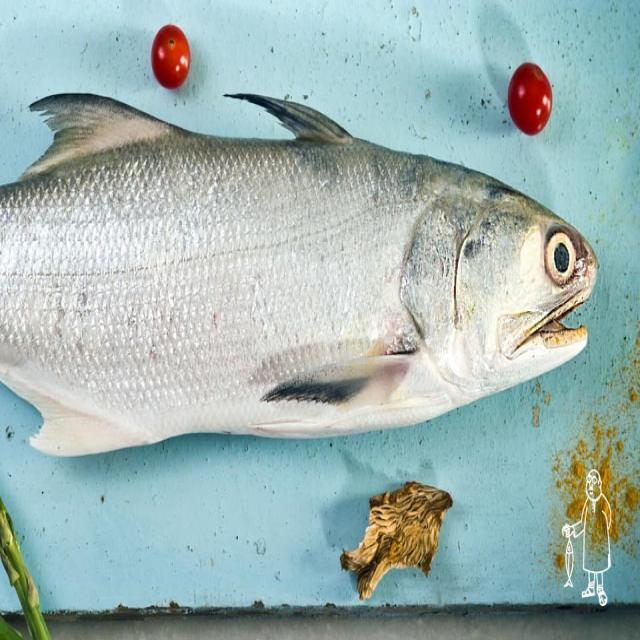Fourfinger-Threadfin: (0, 65, 609, 499)
